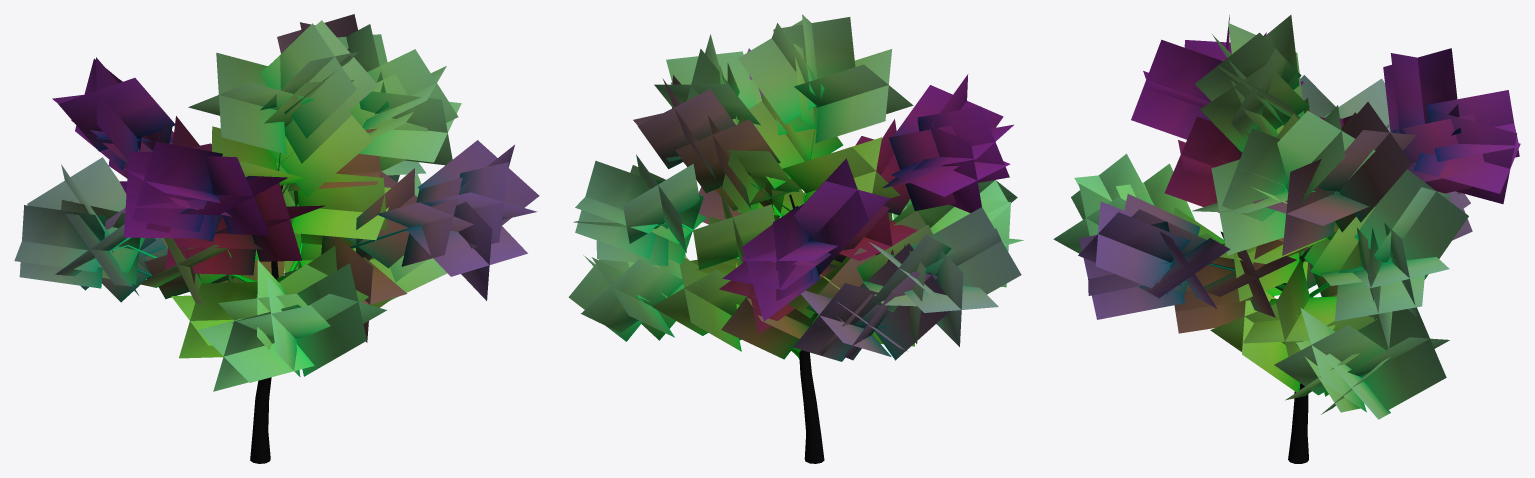
File: URP_P3_Tree_1_LOD_2.fbx
3 renders of one model, left to right at view 1: azimuth 30°, elevation 25°; view 2: azimuth 150°, elevation 25°; view 3: azimuth 270°, elevation 25°, orthographic. The views are drawn at different scales.
Parts seen in each view (by area): view 1: Tree_1_LOD_2; view 2: Tree_1_LOD_2; view 3: Tree_1_LOD_2.
Boxes of the visible parts, <box> form: Tree_1_LOD_2: <box>14,14,539,463</box>; Tree_1_LOD_2: <box>568,14,1023,463</box>; Tree_1_LOD_2: <box>1053,15,1520,463</box>.
Size of the model in its own units: 630 by 611 by 584.
